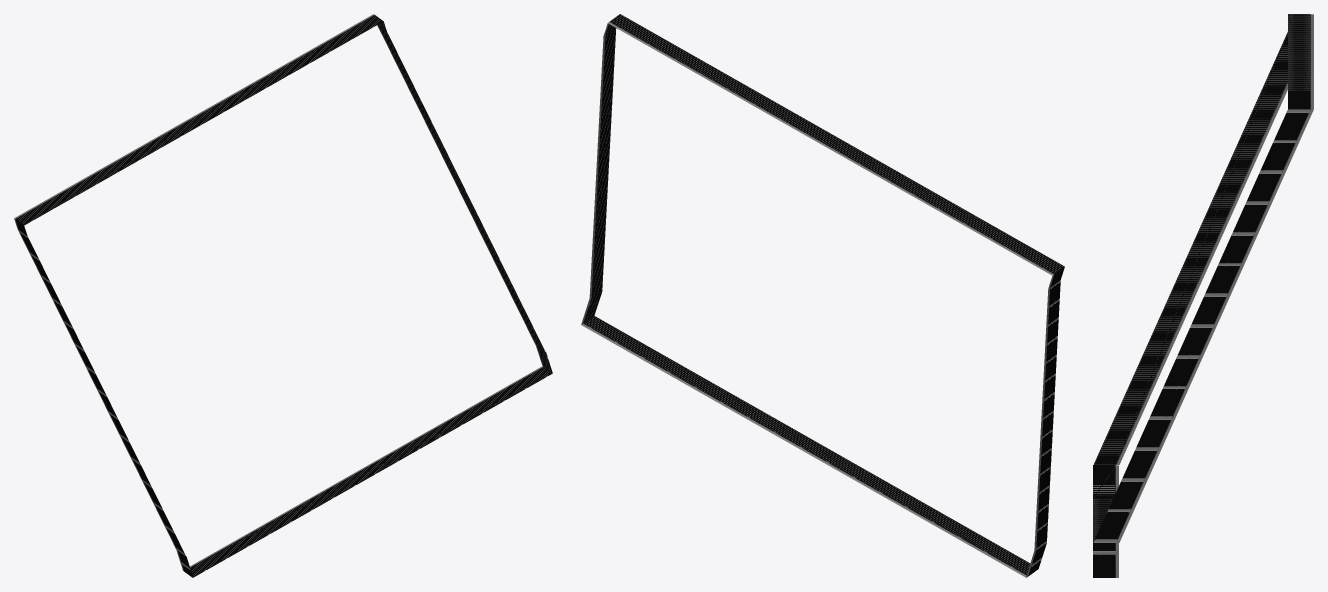
Rendered from _0TRIBUENE_02_009_SUB0.obj.
3 views of the same model, side by side, from view 1: azimuth 30°, elevation 25°; view 2: azimuth 150°, elevation 25°; view 3: azimuth 270°, elevation 25° (orthographic). The views are drawn at different scales.
Parts seen in each view (by area): view 1: _0TRIBUENE_02_009_SUB0_Scene.143; view 2: _0TRIBUENE_02_009_SUB0_Scene.143; view 3: _0TRIBUENE_02_009_SUB0_Scene.143.
Part boxes in pixels (x1,y1,x2,y2): _0TRIBUENE_02_009_SUB0_Scene.143: (14,14,552,577); _0TRIBUENE_02_009_SUB0_Scene.143: (581,14,1064,577); _0TRIBUENE_02_009_SUB0_Scene.143: (1093,14,1313,577).
Bounding box in the file's own units: 3994 × 3675 × 1272.
